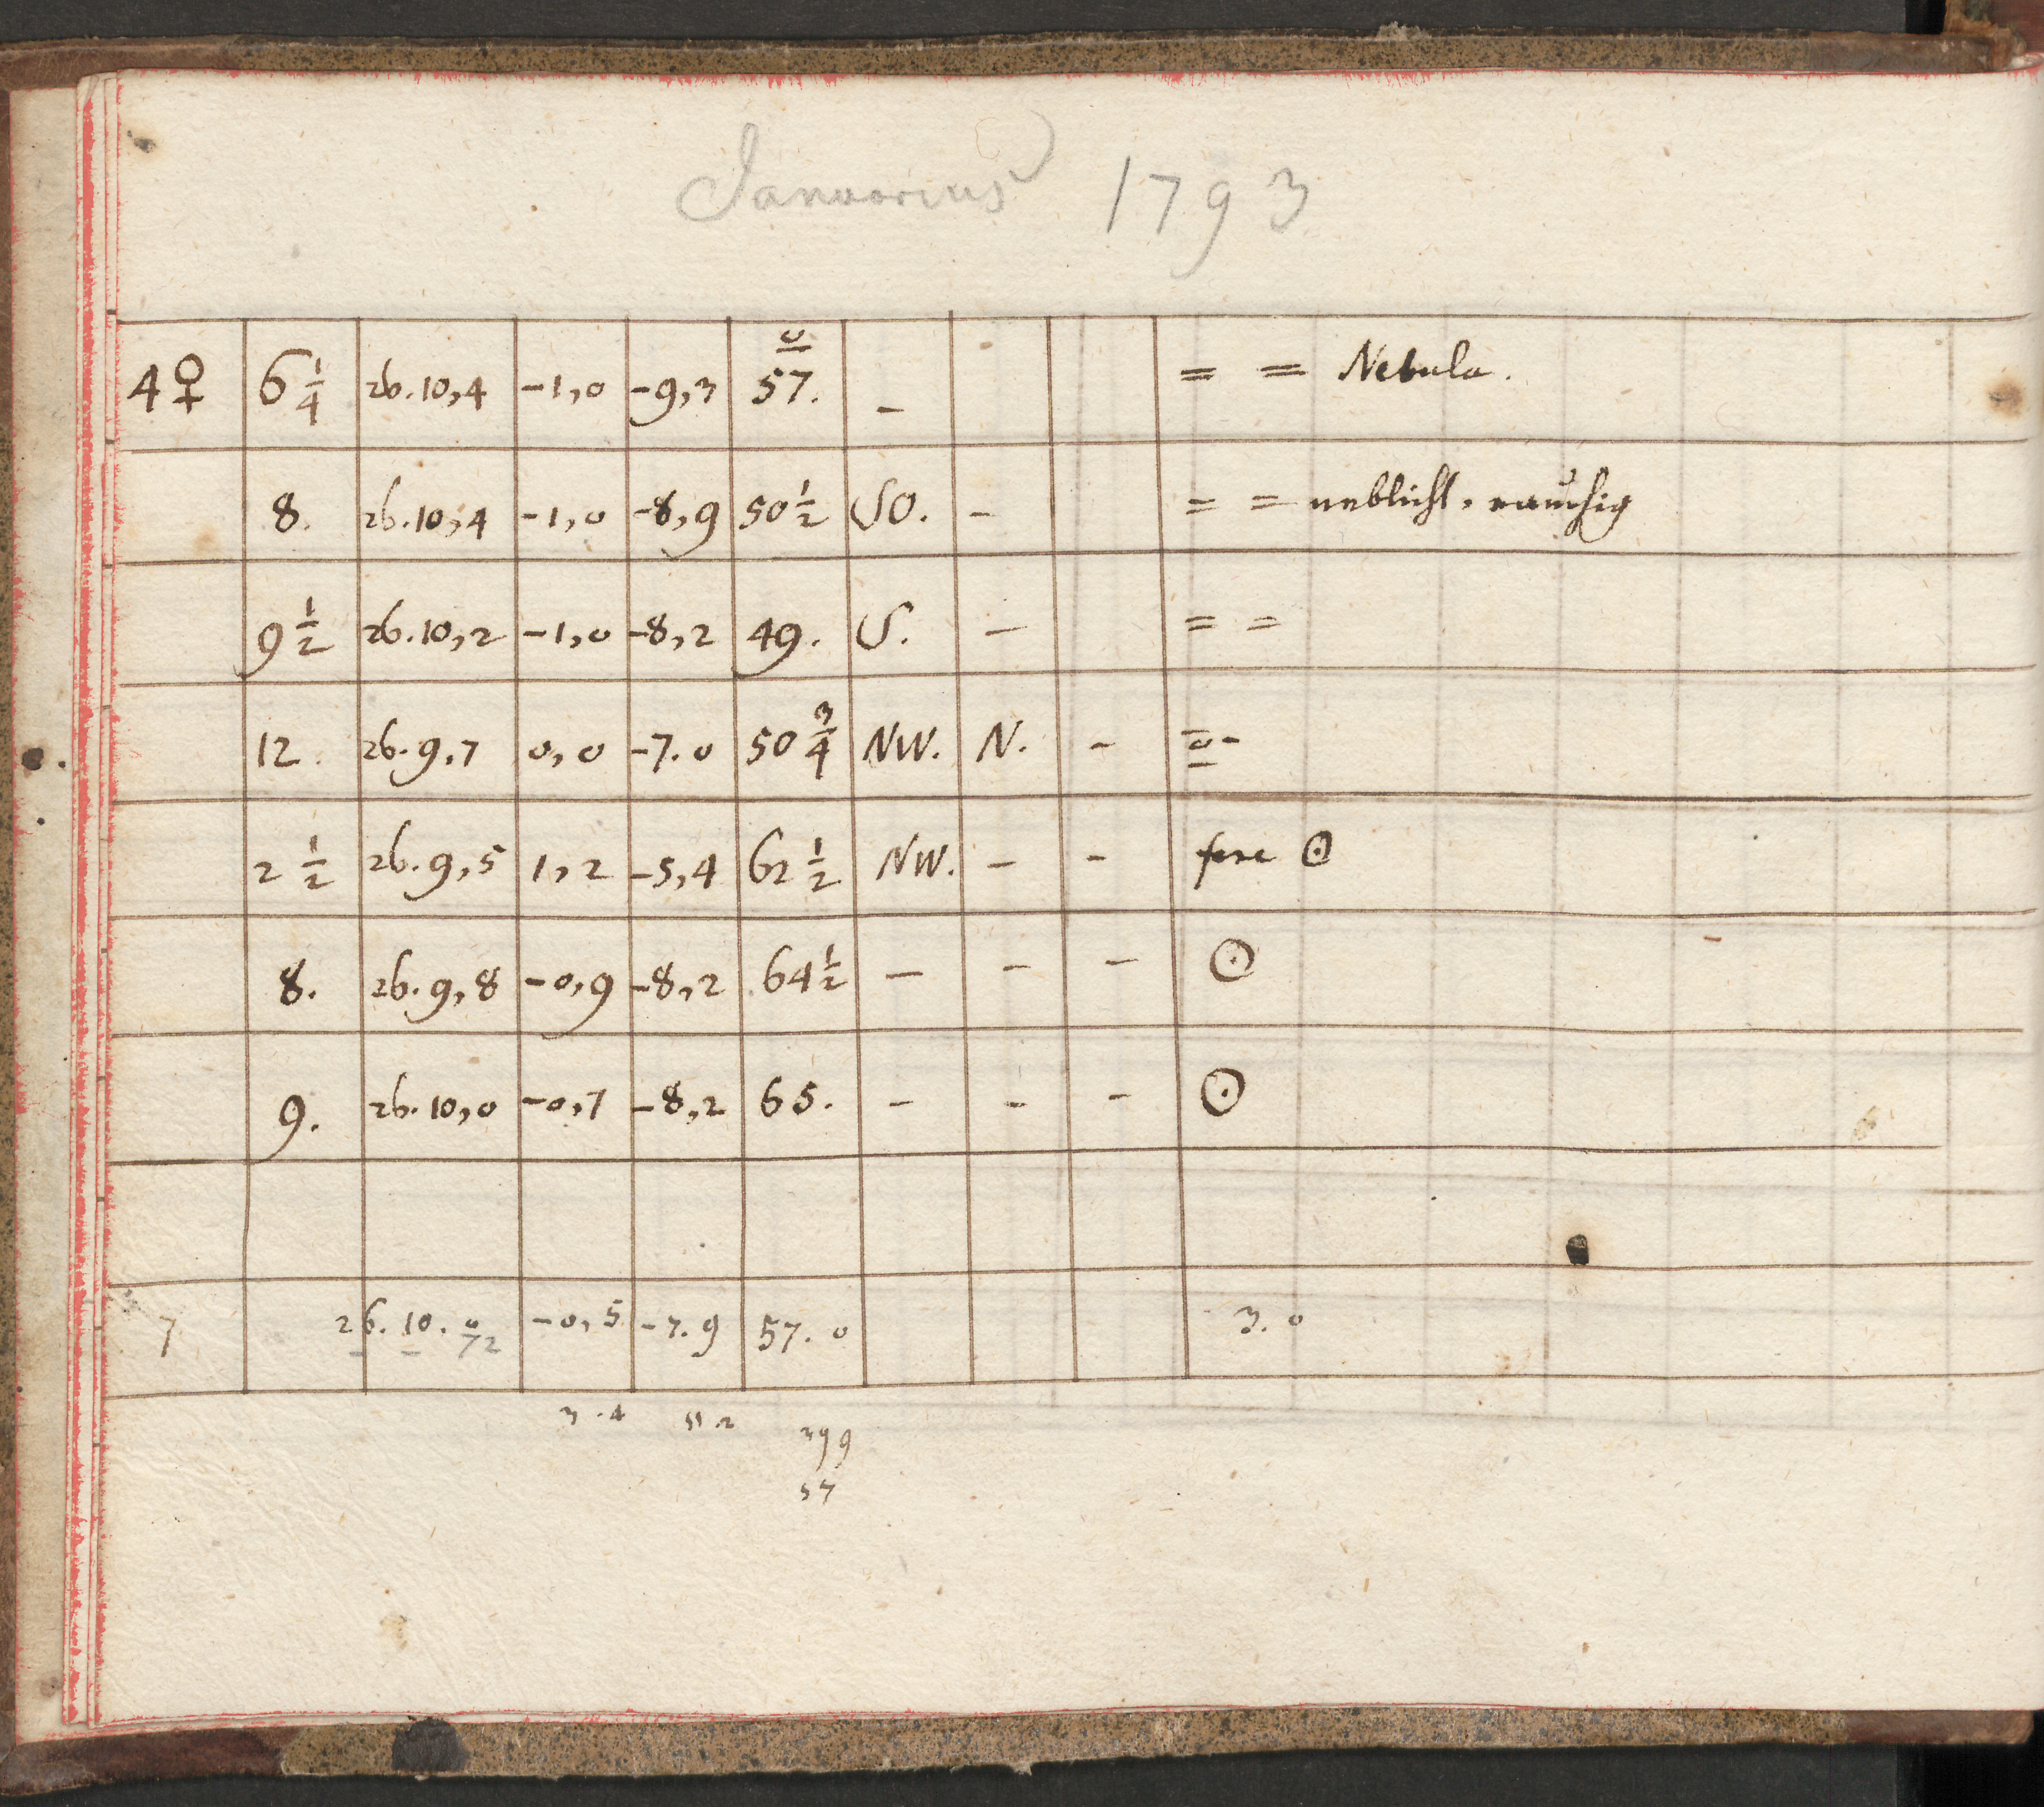bordered: (113, 323, 2044, 1387)
